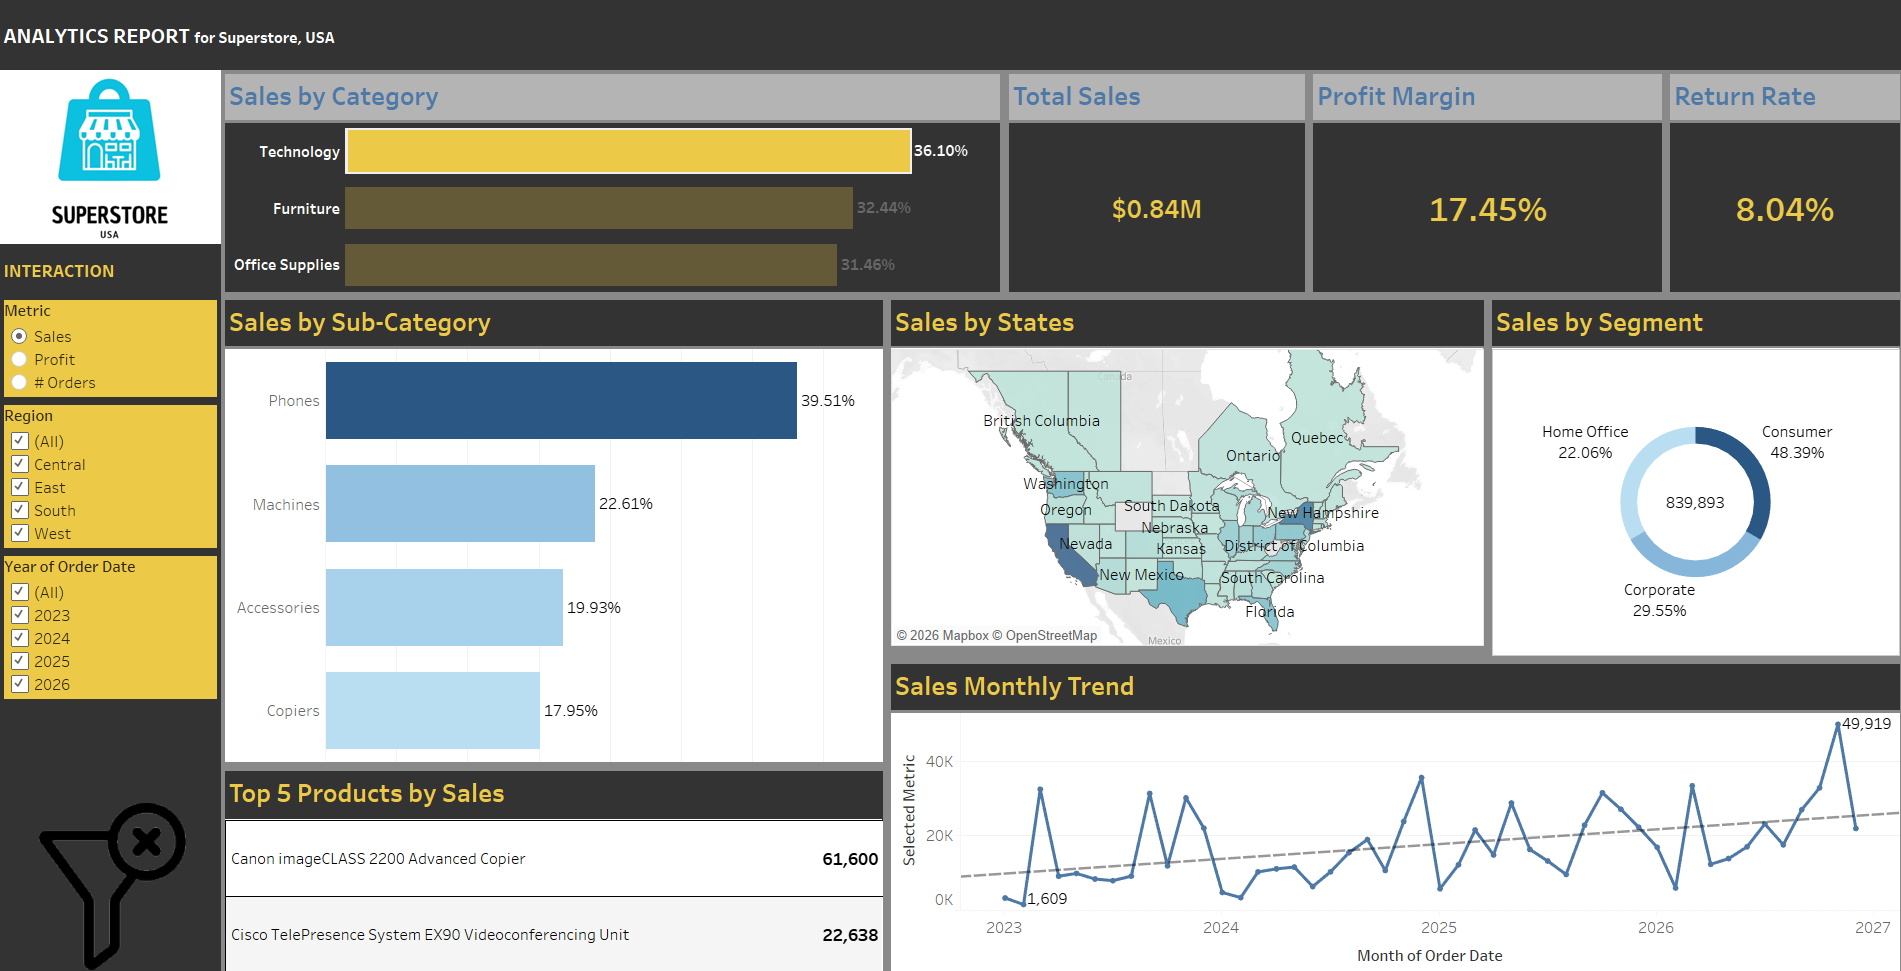

What the dashboard file says about the page in this screenshot:
{"tool":"tableau","page":{"name":"Final Dashboard","canvas":[1000,1000],"units":"permille","ordinal":0},"visuals":[{"type":"text","box":[4.8,10,990.3,69.9]},{"type":"image","param":"Image/Screenshot 2026-08-24 193931.png","box":[4.8,79.9,115.2,174.8]},{"type":"worksheet","title":"Category","mark":"Automatic","rows":["Category"],"cols":["Calculation_1862238483544436746"],"box":[120.1,79.9,407.5,227.5]},{"type":"worksheet","title":"Total Sales","mark":"Automatic","box":[527.6,79.9,158,227.5]},{"type":"worksheet","title":"Profit Margin","mark":"Automatic","box":[685.6,79.9,186,227.5]},{"type":"worksheet","title":"Return Rate KPI","mark":"Automatic","box":[871.6,79.9,123.6,227.5]},{"type":"text","box":[4.8,254.7,115.2,52.4]},{"type":"parameter","param":"[Parameters].[Parameter 2]","box":[4.8,307.1,115.2,131.1]},{"type":"worksheet","title":"Sub-category","mark":"Automatic","rows":["Sub-Category"],"cols":["Calculation_1862238483544436746"],"box":[120.1,307.4,346.3,471.6]},{"type":"worksheet","title":"Sales by States","mark":"Multipolygon","box":[466.4,307.4,312.5,364.9]},{"type":"worksheet","title":"Sales by Segment","mark":"Pie","rows":["Calculation_1862238483550863374","Calculation_1862238483550871568"],"box":[778.9,307.4,216.3,364.9]},{"type":"filter","title":"Sub-category","param":"[federated.0k17pc00cersf41cxx7rs15ydtot].[none:Region:nk]","box":[4.8,438.2,115.2,188.5]},{"type":"filter","title":"Sub-category","param":"[federated.0k17pc00cersf41cxx7rs15ydtot].[yr:Order Date:ok]","box":[4.8,626.7,115.2,188.5]},{"type":"worksheet","title":"Monthly Trend","mark":"Line","rows":["Calculation_1862238483544436746"],"cols":["Order Date"],"box":[466.4,672.3,528.8,317.7]},{"type":"worksheet","title":"Top 5 Products","mark":"Automatic","rows":["Product Name"],"box":[120.1,779,346.3,211]},{"type":"dashboard-object","box":[6.6,816.5,111.7,168.5]}]}

Visuals, with their boxes on the dashboard's canvas, which has no fixed pixel size, in thousandths of its width and height (x1, y1, x2, y2). These are canvas units, not pixel positions in the 1901x971 screenshot, which may show the page scaled, cropped or inside an application window:
text: x1=5, y1=10, x2=995, y2=80
image: x1=5, y1=80, x2=120, y2=255
"Category" worksheet: x1=120, y1=80, x2=528, y2=307
"Total Sales" worksheet: x1=528, y1=80, x2=686, y2=307
"Profit Margin" worksheet: x1=686, y1=80, x2=872, y2=307
"Return Rate KPI" worksheet: x1=872, y1=80, x2=995, y2=307
text: x1=5, y1=255, x2=120, y2=307
parameter: x1=5, y1=307, x2=120, y2=438
"Sub-category" worksheet: x1=120, y1=307, x2=466, y2=779
"Sales by States" worksheet (Multipolygon marks): x1=466, y1=307, x2=779, y2=672
"Sales by Segment" worksheet (Pie marks): x1=779, y1=307, x2=995, y2=672
"Sub-category" filter: x1=5, y1=438, x2=120, y2=627
"Sub-category" filter: x1=5, y1=627, x2=120, y2=815
"Monthly Trend" worksheet (Line marks): x1=466, y1=672, x2=995, y2=990
"Top 5 Products" worksheet: x1=120, y1=779, x2=466, y2=990
dashboard-object: x1=7, y1=816, x2=118, y2=985
